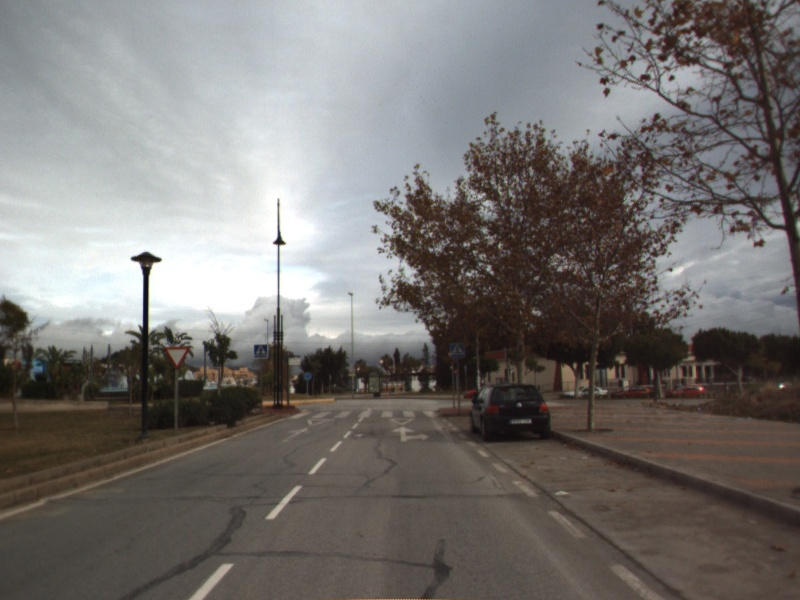STRAIGHT: (279, 425, 312, 444)
STRAIGHT_RIGHT: (389, 424, 431, 443)
